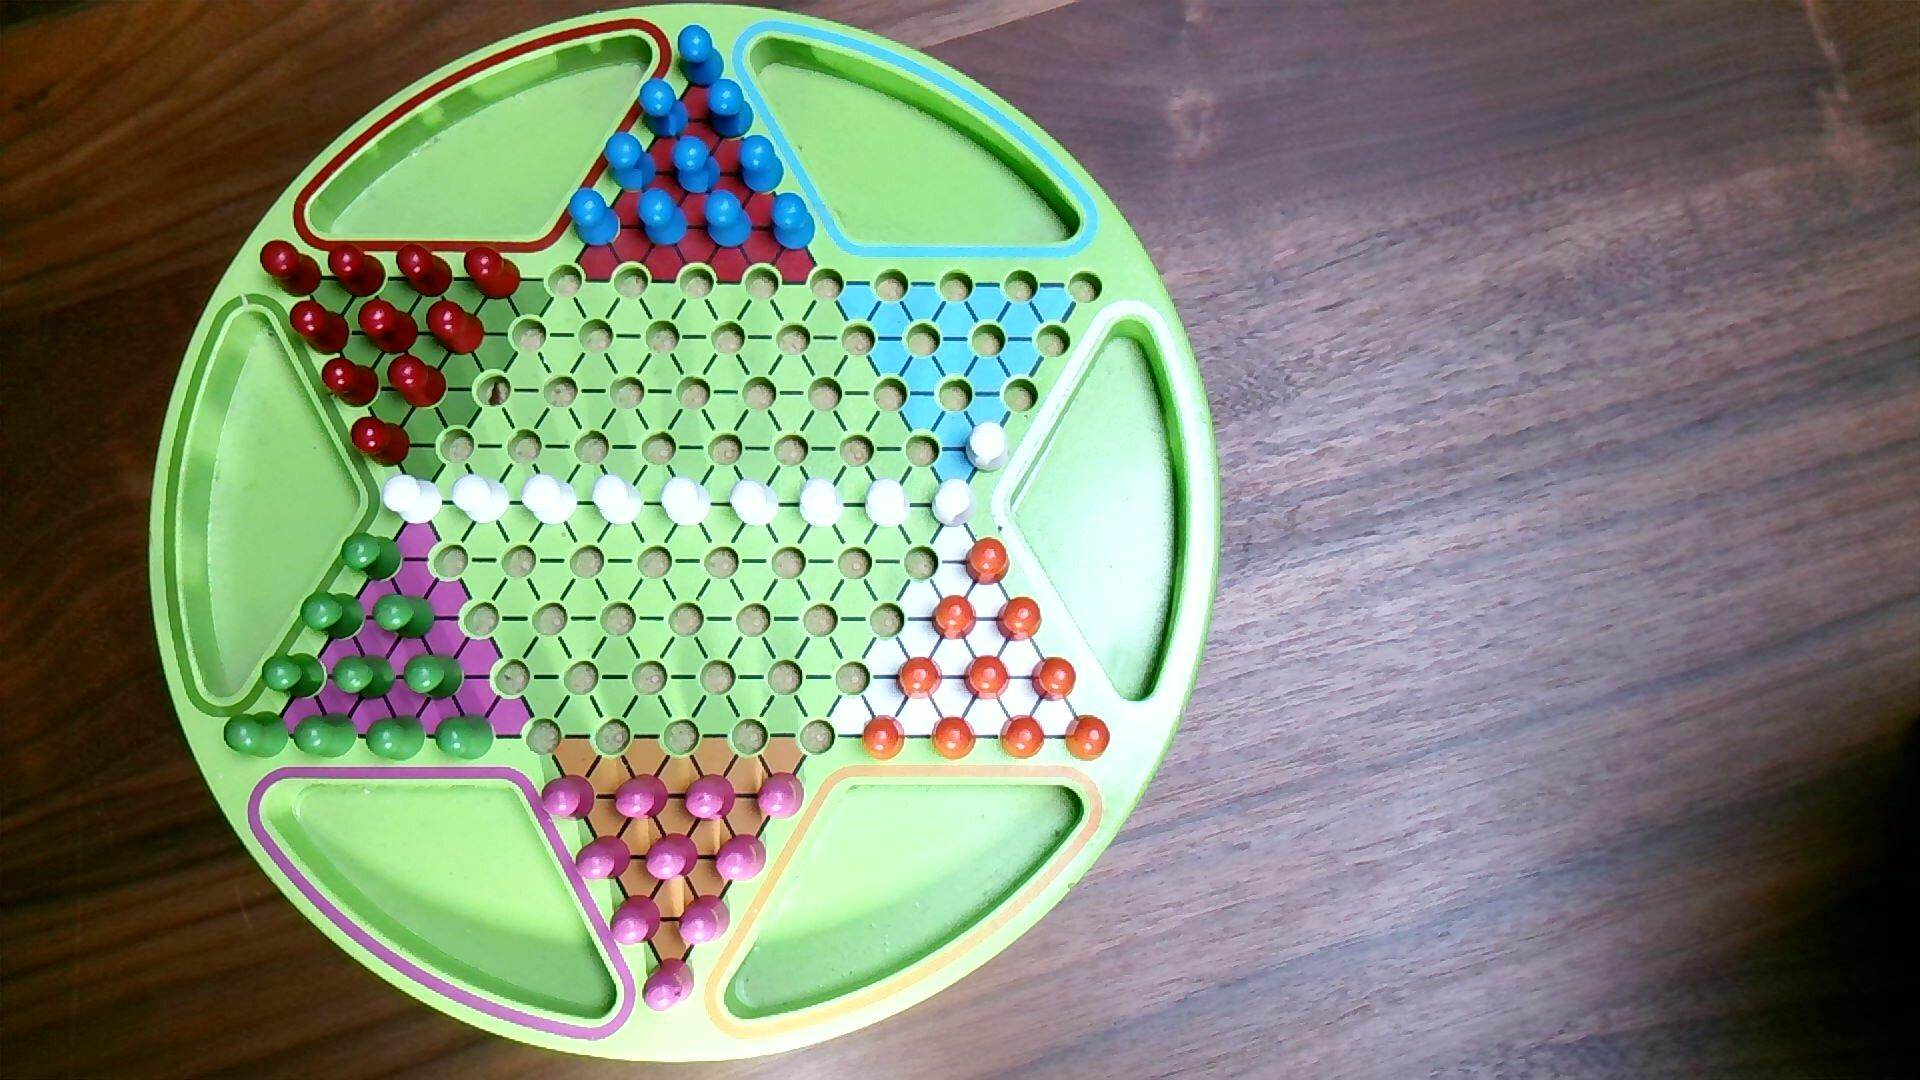B: (603, 131, 659, 195), (637, 76, 691, 141), (567, 187, 621, 249), (702, 189, 756, 251), (637, 186, 690, 249), (705, 78, 756, 142), (676, 24, 727, 88), (671, 135, 723, 196), (767, 191, 818, 252), (737, 135, 786, 196)
G: (222, 709, 291, 761), (299, 589, 367, 642), (340, 530, 405, 583), (293, 711, 360, 761), (330, 653, 398, 702), (402, 651, 465, 704), (261, 651, 327, 702), (434, 712, 497, 764), (371, 592, 436, 641), (365, 712, 427, 764)
O: (963, 535, 1013, 587), (994, 595, 1044, 644), (1064, 713, 1112, 764), (998, 713, 1046, 762), (931, 593, 978, 642), (861, 713, 907, 764), (931, 715, 978, 762), (1030, 655, 1077, 703), (895, 655, 944, 702), (963, 655, 1011, 702)
R: (258, 239, 324, 301), (357, 298, 421, 357), (289, 299, 352, 357), (425, 299, 487, 357), (396, 241, 455, 301), (327, 243, 388, 301), (386, 353, 448, 410), (462, 247, 524, 302), (349, 415, 413, 469), (320, 356, 381, 410)
R2: (641, 957, 698, 1014), (644, 831, 702, 884), (682, 771, 738, 824), (608, 893, 662, 947), (613, 771, 671, 822), (574, 833, 633, 882), (676, 894, 732, 945), (713, 832, 769, 884), (541, 774, 597, 823), (756, 770, 807, 823)
W: (380, 471, 444, 527), (450, 472, 512, 527), (520, 472, 580, 527), (659, 476, 713, 530), (592, 473, 646, 527), (729, 479, 782, 529), (930, 477, 978, 530), (864, 477, 913, 530), (964, 421, 1011, 475), (799, 477, 847, 531)
